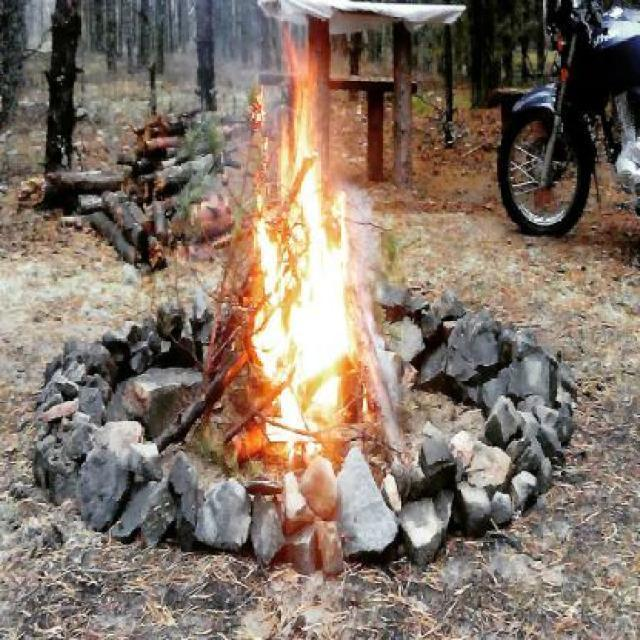Fire: (250, 57, 408, 498)
Smoke: (110, 2, 325, 173)
